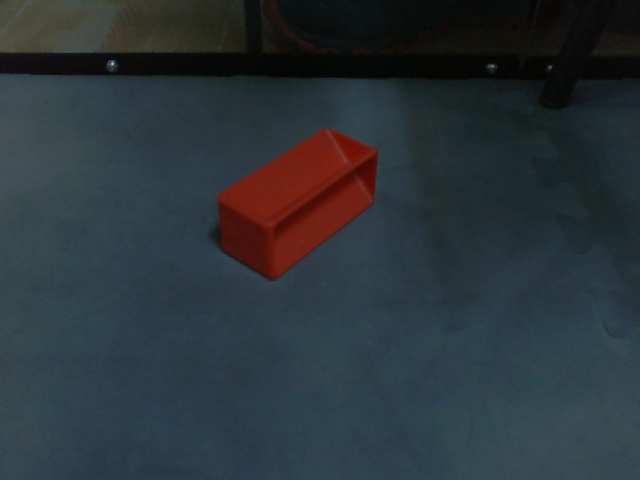RedSample: (215, 126, 381, 284)
